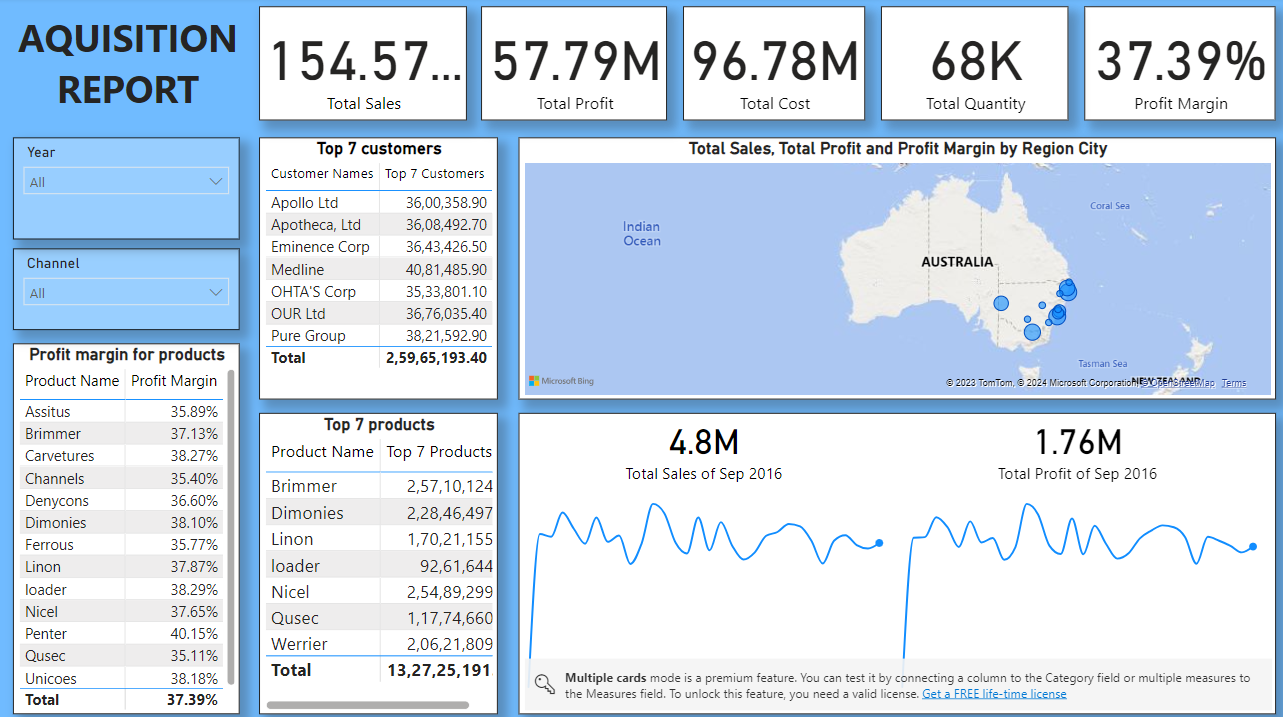

What the dashboard file says about the page in this screenshot:
{"tool":"powerbi","page":{"name":"Page 1","canvas":[1280,720],"ordinal":0},"visuals":[{"type":"tableEx","title":"Profit margin for products","fields":{"Values":["Product Data.Product Name","Important Measures.Profit Margin"]},"box":[16.1,342.8,224.5,367],"z":0},{"type":"slicer","fields":{"Values":["Sales.Channel"]},"box":[16.1,248.7,224.5,80.7],"z":1000},{"type":"slicer","fields":{"Values":["DimTable.Year"]},"box":[16.1,138.5,224.5,100.8],"z":2000},{"type":"tableEx","title":"Top 7 customers","fields":{"Values":["Customer Data.Customer Names","Specific Scenarios.Top 7 Customers"]},"box":[259.4,138.5,236.6,259.4],"z":3000},{"type":"tableEx","title":"Top 7 products","fields":{"Values":["Product Data.Product Name","Specific Scenarios.Top 7 Products"]},"box":[259.4,411.3,236.6,298.4],"z":4000},{"type":"map","fields":{"Category":["Sales.Region City"],"Size":["Important Measures.Total Sales"]},"box":[516.2,138.5,750.1,259.4],"z":5000},{"type":"card","fields":{"Values":["Important Measures.Total Sales"]},"box":[259.4,9.4,205.7,112.9],"z":6000},{"type":"card","fields":{"Values":["Important Measures.Total Profit"]},"box":[479.9,9.4,184.2,112.9],"z":7000},{"type":"card","fields":{"Values":["Important Measures.Total Cost"]},"box":[678.8,9.4,180.1,112.9],"z":8000},{"type":"card","fields":{"Values":["Important Measures.Profit Margin"]},"box":[1076.7,9.4,189.5,112.9],"z":9000},{"type":"card","fields":{"Values":["Important Measures.Total Quantity"]},"box":[875.1,9.4,185.5,112.9],"z":10000},{"type":"PBI_CV_7B952816_A48F_49B4_9E13_15E3BB2C0337","fields":{"Values":["Important Measures.Total Sales","Important Measures.Total Profit"],"axis":["DimTable.MonthInCalendar"],"tooltips":["Important Measures.Profit Margin"]},"box":[516.2,411.3,750.1,298.4],"z":11000},{"type":"textbox","box":[0,9.4,259.4,112.9],"z":11001}]}

Visuals, with their boxes in screenshot pixels (x1, y1, x2, y2), scaled from the page's 1280x720 canvas onto the 1283x717 screenshot:
"Profit margin for products" tableEx: pyautogui.locateOnScreen(16, 341, 241, 707)
slicer - Sales.Channel: pyautogui.locateOnScreen(16, 248, 241, 328)
slicer - DimTable.Year: pyautogui.locateOnScreen(16, 138, 241, 238)
"Top 7 customers" tableEx: pyautogui.locateOnScreen(260, 138, 497, 396)
"Top 7 products" tableEx: pyautogui.locateOnScreen(260, 410, 497, 707)
map - Sales.Region City x Important Measures.Total Sales: pyautogui.locateOnScreen(517, 138, 1269, 396)
card - Important Measures.Total Sales: pyautogui.locateOnScreen(260, 9, 466, 122)
card - Important Measures.Total Profit: pyautogui.locateOnScreen(481, 9, 666, 122)
card - Important Measures.Total Cost: pyautogui.locateOnScreen(680, 9, 861, 122)
card - Important Measures.Profit Margin: pyautogui.locateOnScreen(1079, 9, 1269, 122)
card - Important Measures.Total Quantity: pyautogui.locateOnScreen(877, 9, 1063, 122)
PBI_CV_7B952816_A48F_49B4_9E13_15E3BB2C0337 - Important Measures.Total Sales x Important Measures.Total Profit: pyautogui.locateOnScreen(517, 410, 1269, 707)
textbox: pyautogui.locateOnScreen(0, 9, 260, 122)
